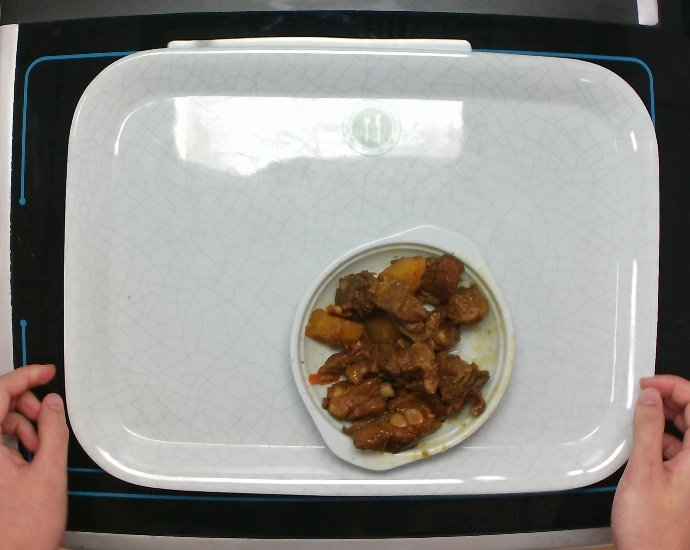JYsf-Shuang_Er_Pan: (286, 221, 521, 476)
